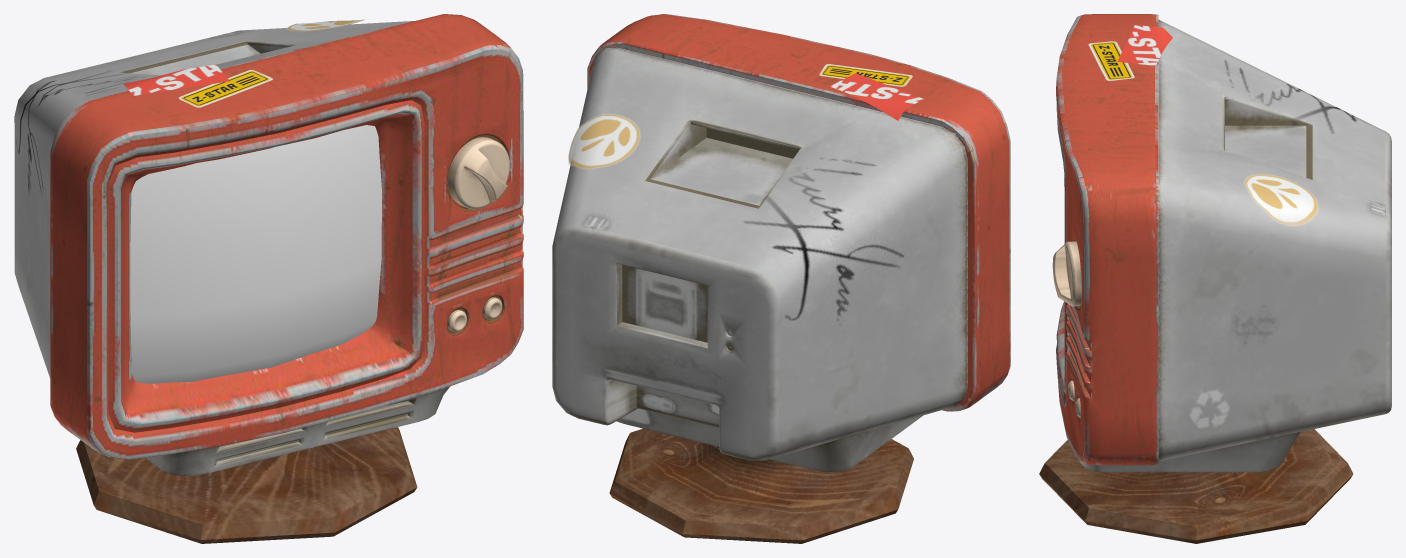
The picture shows the model from 3 angles, left to right: view 1: azimuth 30°, elevation 25°; view 2: azimuth 150°, elevation 25°; view 3: azimuth 270°, elevation 25°; orthographic projection. The views are drawn at different scales.
Parts seen in each view (by area): view 1: 2_TV_Solo, 1_TV_Screen, 3_TV_Stickers; view 2: 2_TV_Solo, 3_TV_Stickers; view 3: 2_TV_Solo, 3_TV_Stickers.
Boxes of the visible parts, x1=… form: 2_TV_Solo: x1=14, y1=14, x2=523, y2=543; 1_TV_Screen: x1=130, y1=125, x2=381, y2=383; 3_TV_Stickers: x1=123, y1=19, x2=364, y2=107; 2_TV_Solo: x1=552, y1=14, x2=1010, y2=543; 3_TV_Stickers: x1=568, y1=64, x2=923, y2=168; 2_TV_Solo: x1=1039, y1=14, x2=1391, y2=543; 3_TV_Stickers: x1=1088, y1=25, x2=1318, y2=226.
Size of the model in its own units: 62.67 by 60.56 by 49.32.
Materials: 1 (1 with a texture image).
